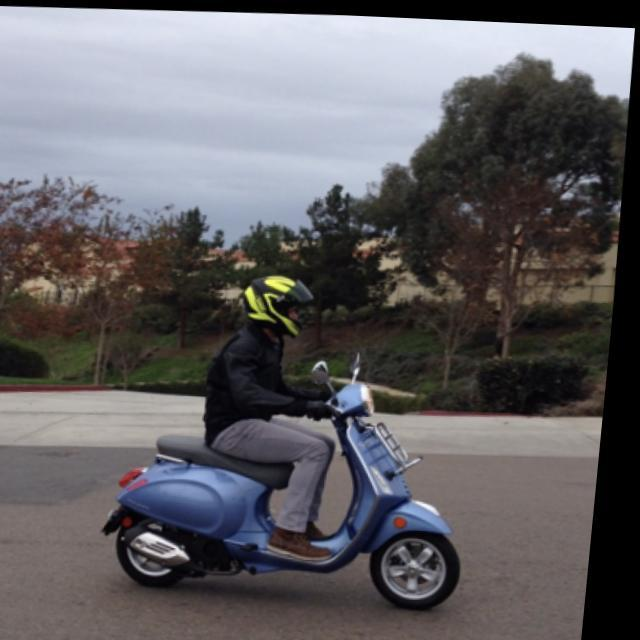Helmet: (233, 258, 316, 342)
